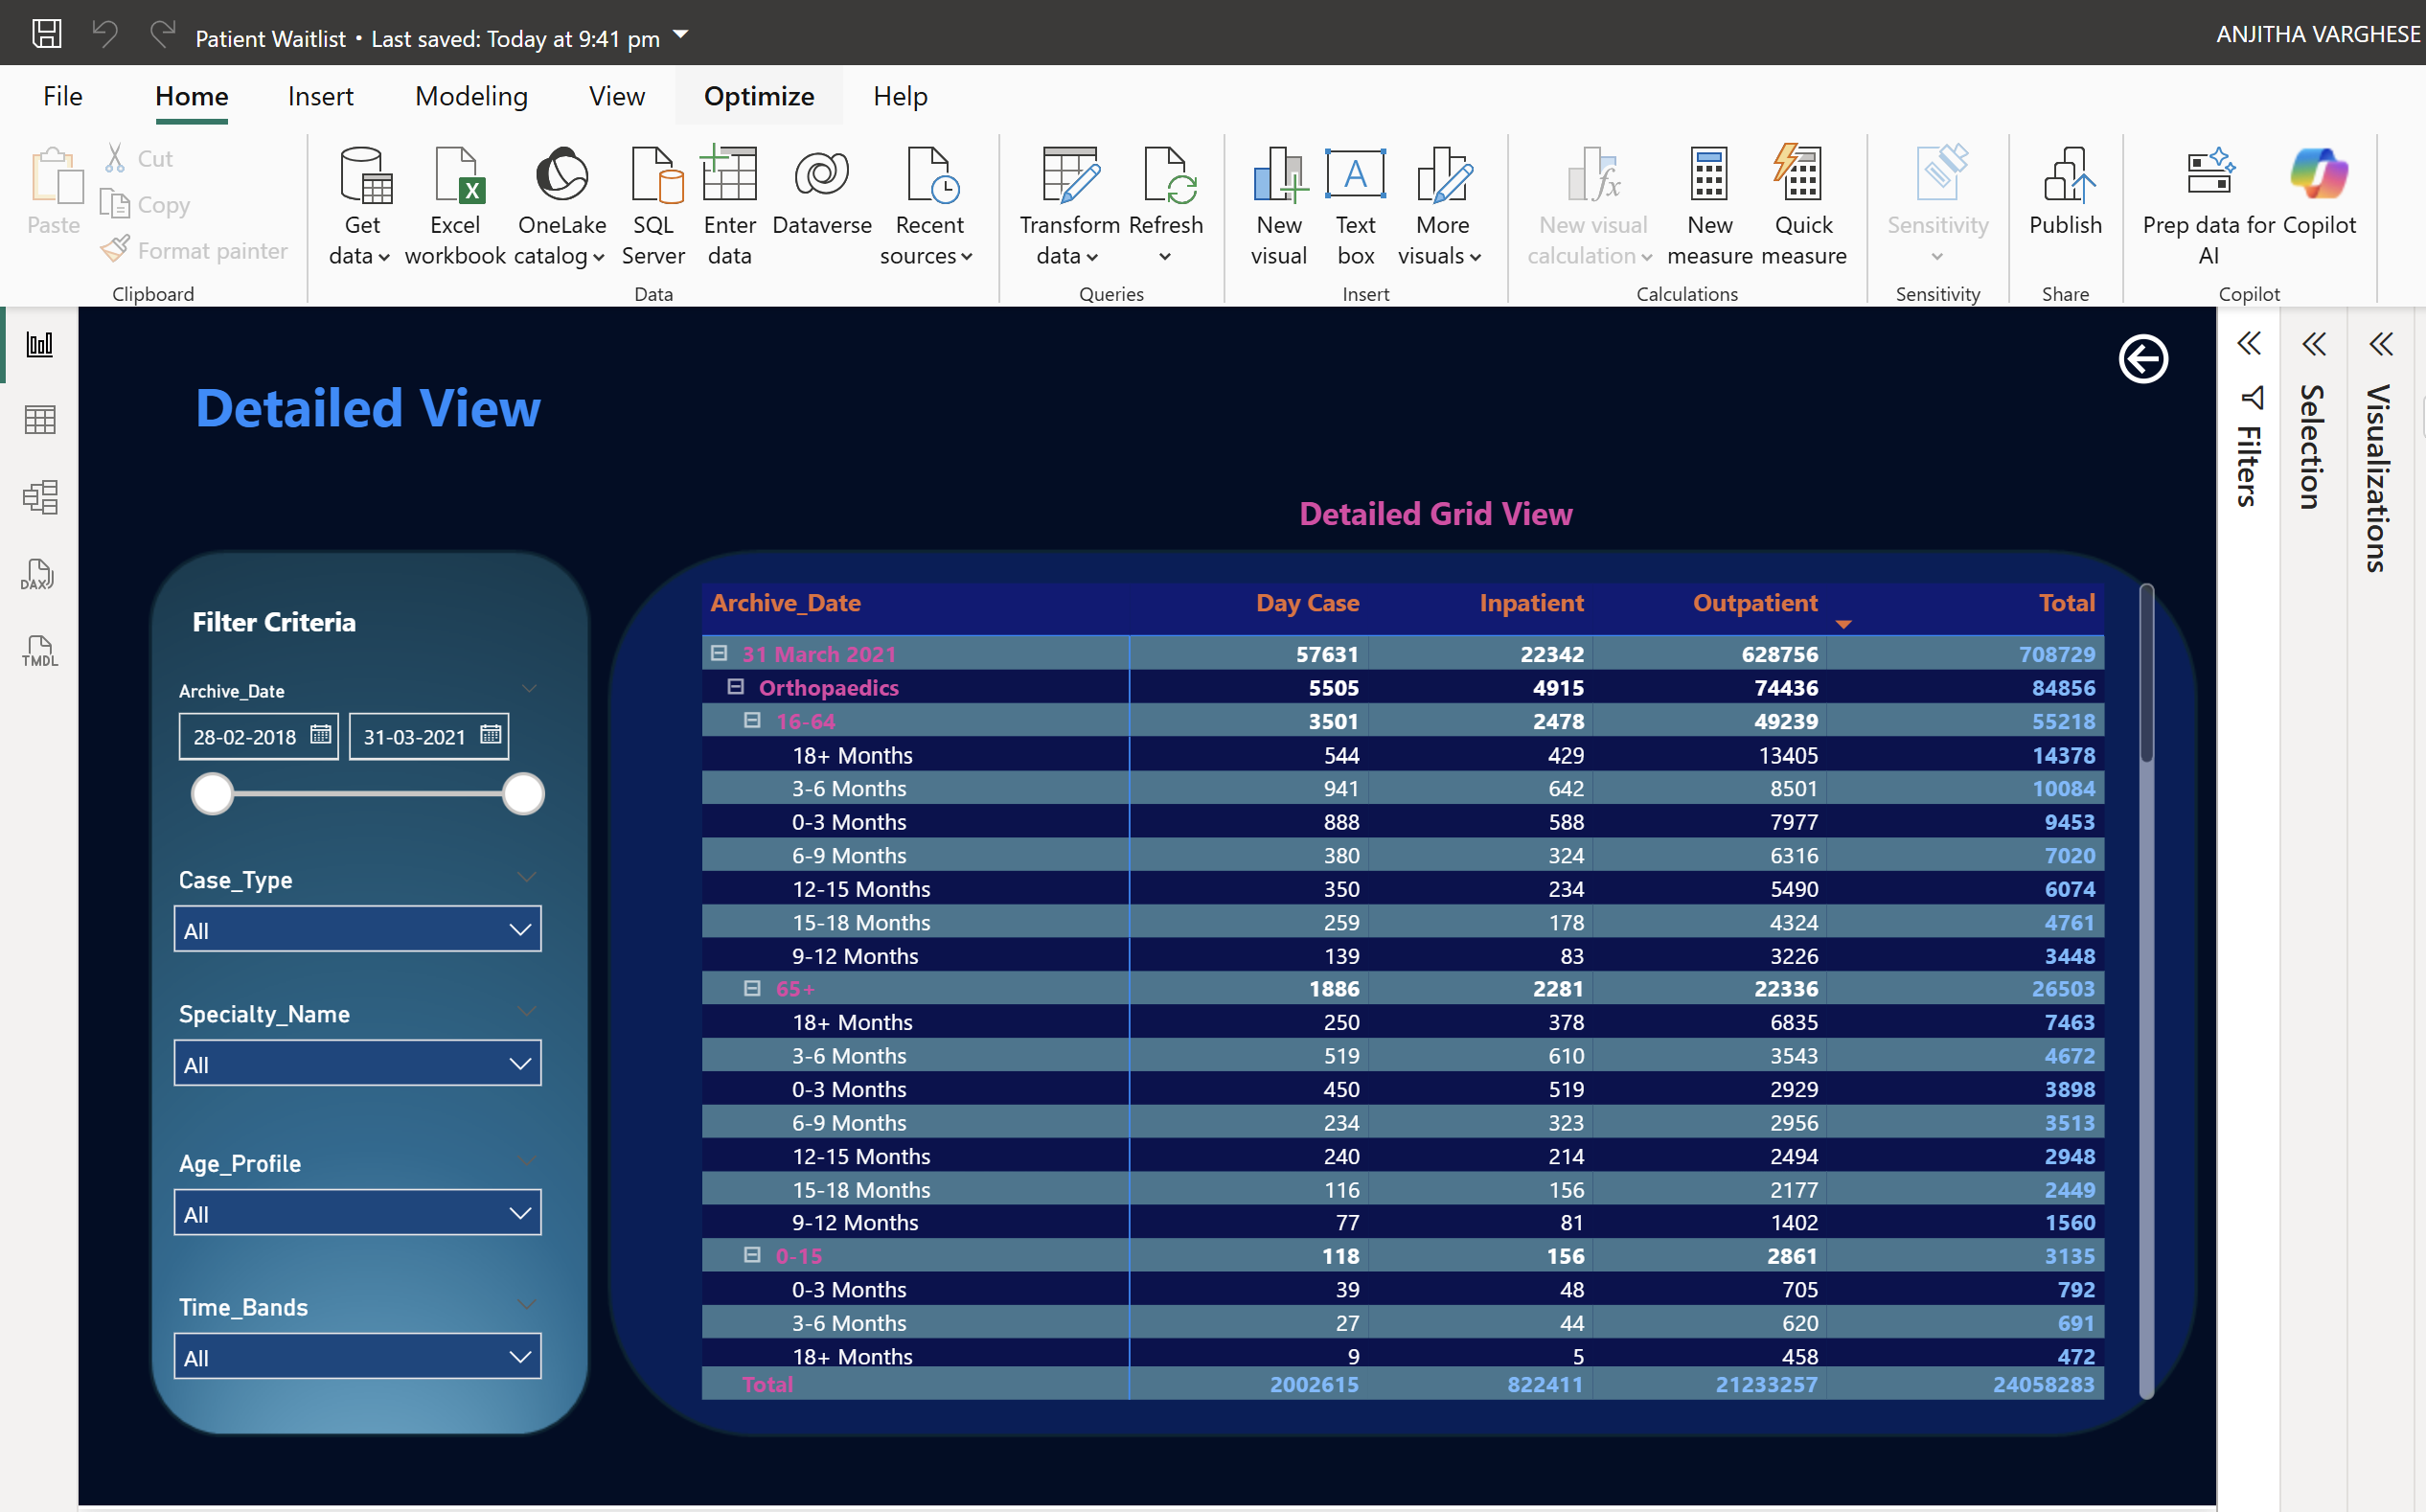

This screenshot's page, from the dashboard's own definition file:
{"tool":"powerbi","page":{"name":"Detail","canvas":[1280,720],"ordinal":1},"visuals":[{"type":"slicer","fields":{"Values":["All_Patients.Archive_Date"]},"box":[47.6,219.3,240.4,96.4],"z":0},{"type":"slicer","fields":{"Values":["All_Patients.Case_Type"]},"box":[47.6,328.9,240.4,63.4],"z":1000},{"type":"slicer","fields":{"Values":["All_Patients.Specialty_Name"]},"box":[47.6,409.5,240.4,63.4],"z":2000},{"type":"textbox","box":[63.7,31.9,256.3,73.9],"z":3000},{"type":"slicer","fields":{"Values":["All_Patients.Age_Profile"]},"box":[47.6,499.3,240.4,64.7],"z":4000},{"type":"slicer","fields":{"Values":["All_Patients.Time_Bands"]},"box":[47.6,585.2,240.4,64.7],"z":5000},{"type":"pivotTable","fields":{"Rows":["All_Patients.Archive_Date","All_Patients.Specialty_Name","All_Patients.Age_Profile","All_Patients.Time_Bands"],"Columns":["All_Patients.Case_Type"],"Values":["Sum(All_Patients.Total)"]},"box":[368.4,160.6,879.7,498.5],"z":6000},{"type":"textbox","box":[63.4,171.7,165.1,37],"z":7000},{"type":"textbox","box":[725.2,105.7,183.6,38.3],"z":8000},{"type":"actionButton","box":[1216.6,11.9,64.7,39.6],"z":9000}]}

Visuals, with their boxes on the page's 1280x720 design canvas (x1, y1, x2, y2). These are canvas units, not pixel positions in the 2426x1512 screenshot, which may show the page scaled, cropped or inside an application window:
slicer - All_Patients.Archive_Date: <bbox>48, 219, 288, 316</bbox>
slicer - All_Patients.Case_Type: <bbox>48, 329, 288, 392</bbox>
slicer - All_Patients.Specialty_Name: <bbox>48, 410, 288, 473</bbox>
textbox: <bbox>64, 32, 320, 106</bbox>
slicer - All_Patients.Age_Profile: <bbox>48, 499, 288, 564</bbox>
slicer - All_Patients.Time_Bands: <bbox>48, 585, 288, 650</bbox>
pivotTable - All_Patients.Archive_Date x All_Patients.Specialty_Name: <bbox>368, 161, 1248, 659</bbox>
textbox: <bbox>63, 172, 228, 209</bbox>
textbox: <bbox>725, 106, 909, 144</bbox>
actionButton: <bbox>1217, 12, 1281, 52</bbox>
